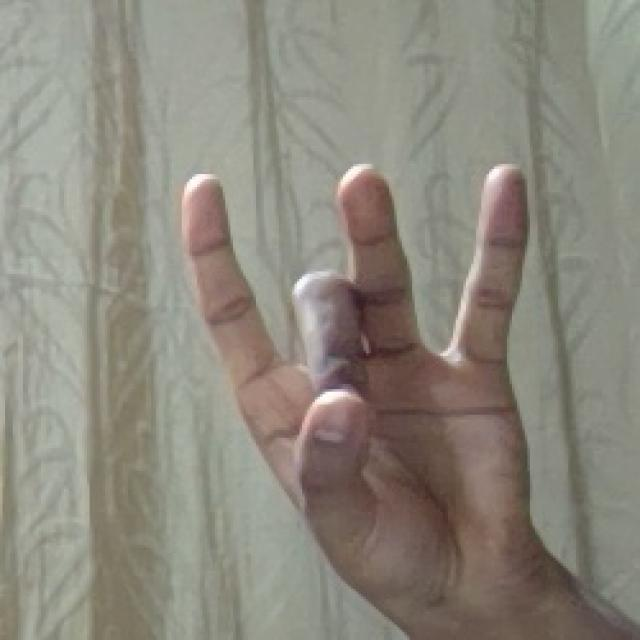Numeric-8: (175, 153, 538, 612)
